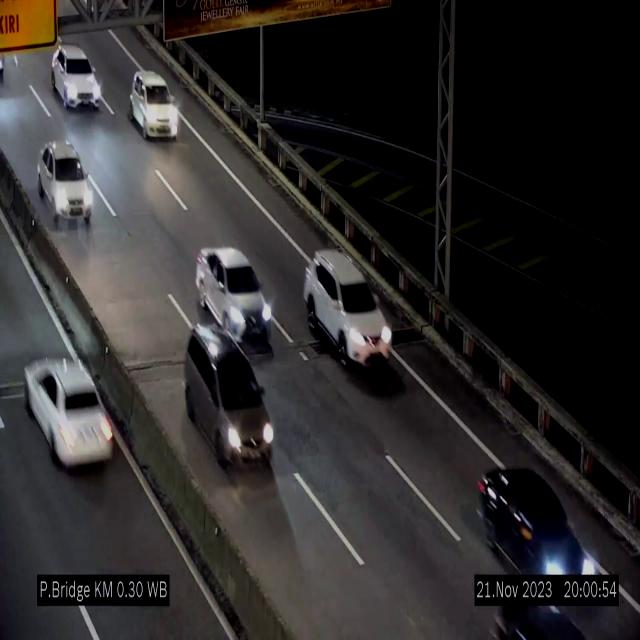Car: (22, 337, 136, 480), (185, 324, 275, 469), (475, 466, 596, 573), (304, 249, 389, 365), (196, 247, 274, 341), (38, 136, 94, 229), (130, 71, 179, 140), (52, 45, 102, 108)
